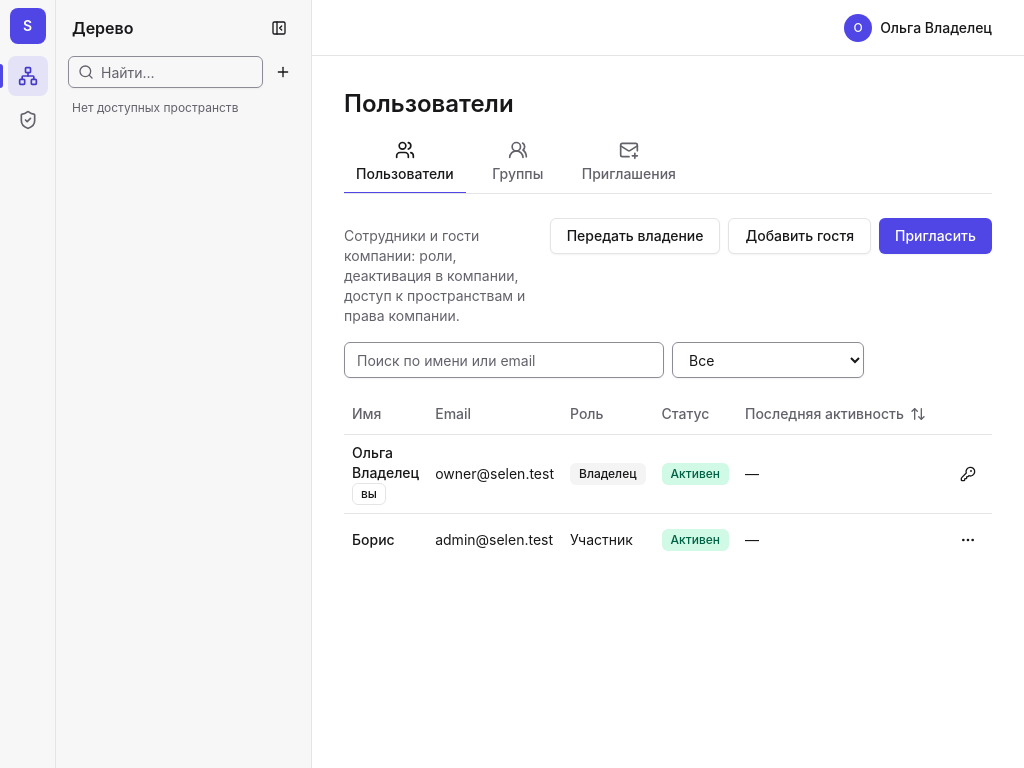
Test: Админка пользователей › Владелец назначает администратора из меню
Click the button named "Действия с пользователем «Борис»" at (968, 540), box [950, 522, 986, 558]
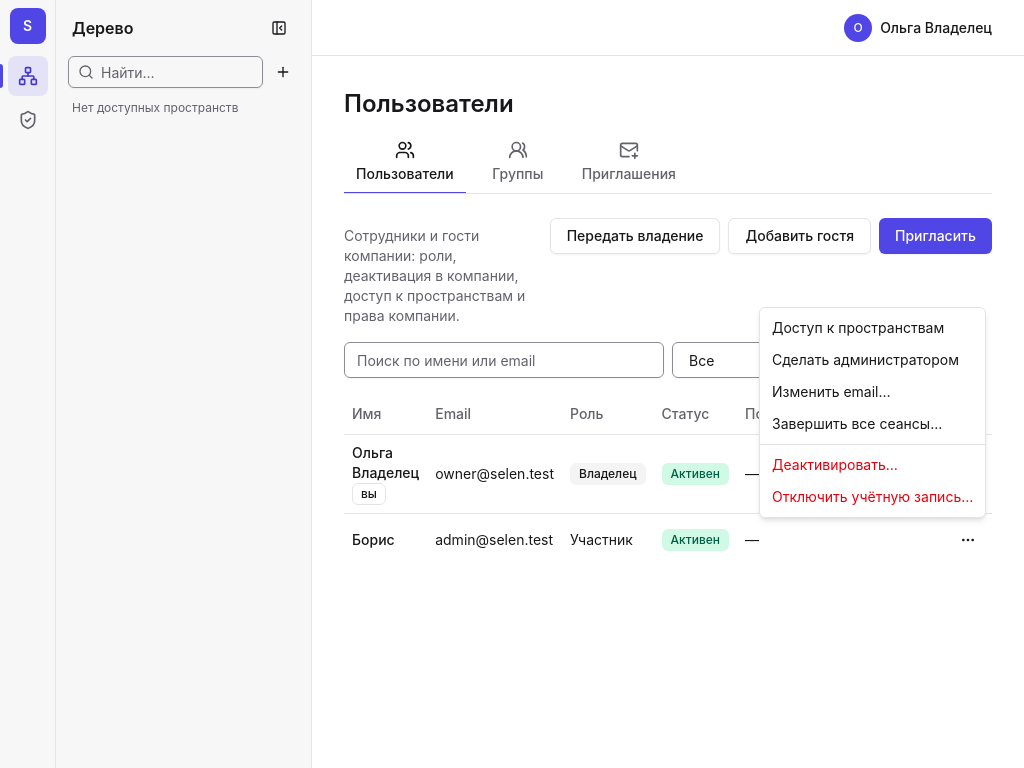
Click the menu item "Сделать администратором" at (866, 360), box [772, 351, 959, 368]
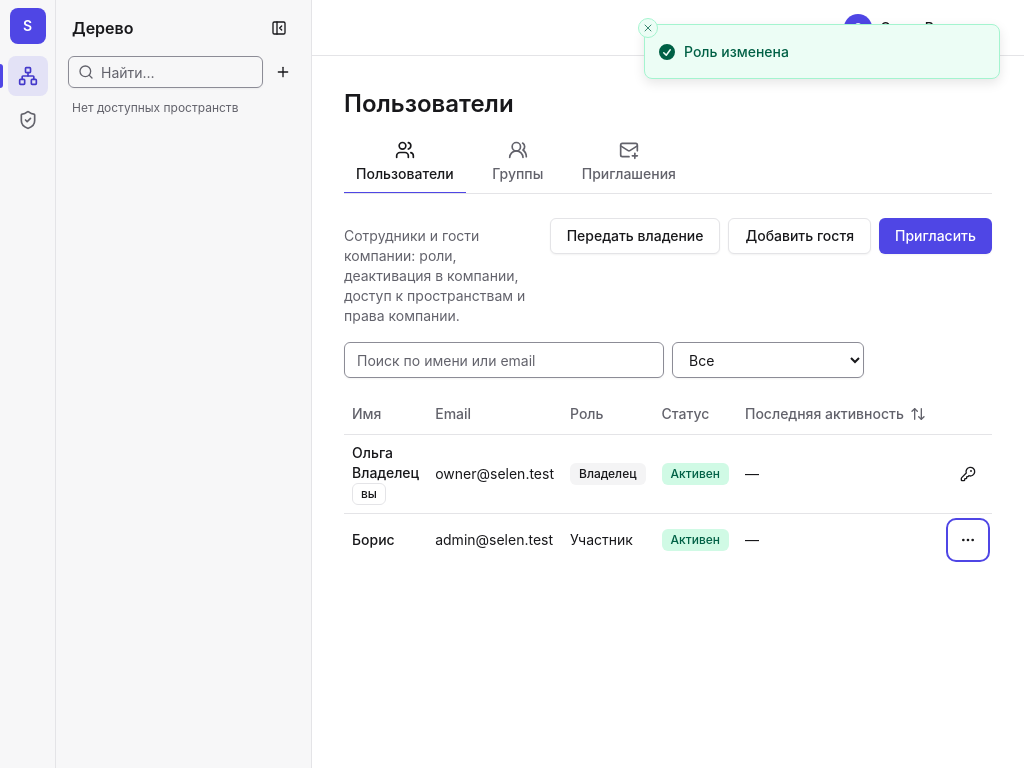
Result: the text "Роль изменена" is shown at [684, 41, 789, 62]
